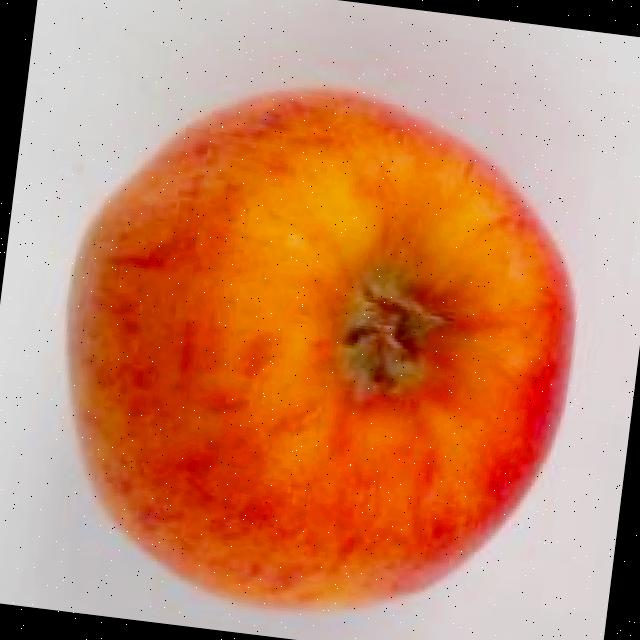apple: (2, 34, 636, 640)
